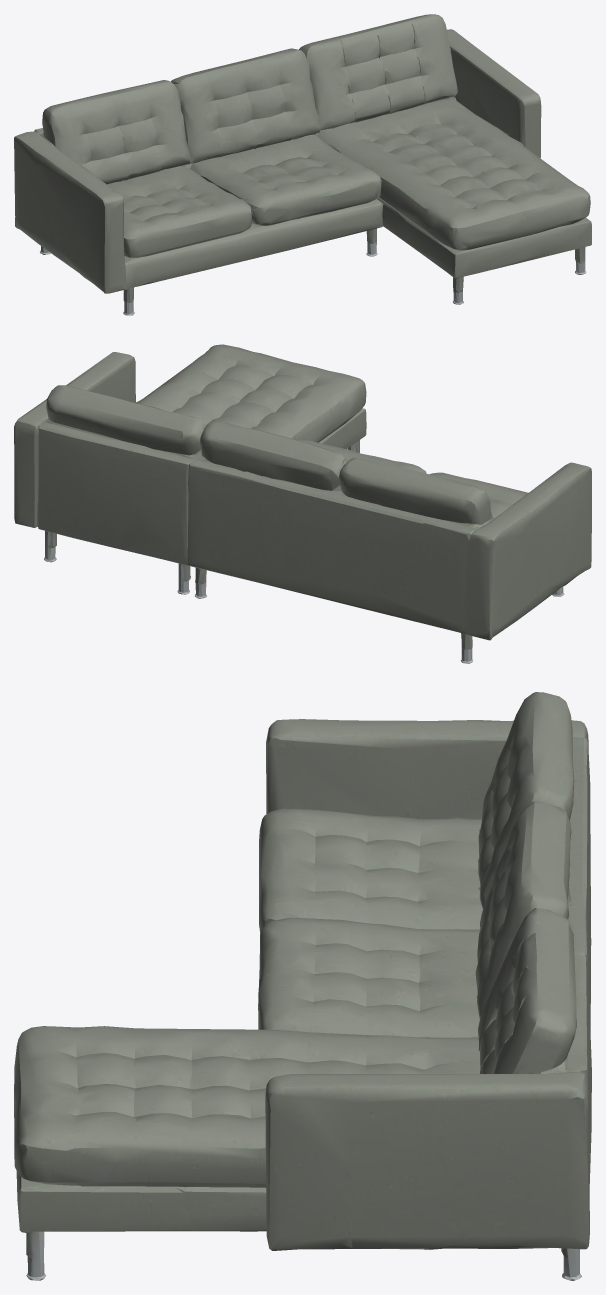
The model's file is 25 - LANDSKRONA - 三人座沙發，含躺椅Gunnared 淺綠色金屬 IKEA 線上購物.glb.
3 renders of one model, top to bottom at view 1: azimuth 30°, elevation 25°; view 2: azimuth 150°, elevation 25°; view 3: azimuth 270°, elevation 25°, orthographic. The views are drawn at different scales.
Parts seen in each view (by area): view 1: ProcessedMeshNode; view 2: ProcessedMeshNode; view 3: ProcessedMeshNode.
Boxes of the visible parts, x1,y1,x2,y2 form: ProcessedMeshNode: (14, 14, 591, 315); ProcessedMeshNode: (14, 344, 591, 663); ProcessedMeshNode: (14, 692, 591, 1280).
Size of the model in its own units: 2.41 by 0.7997 by 1.58.
1 material, 1 textured.
